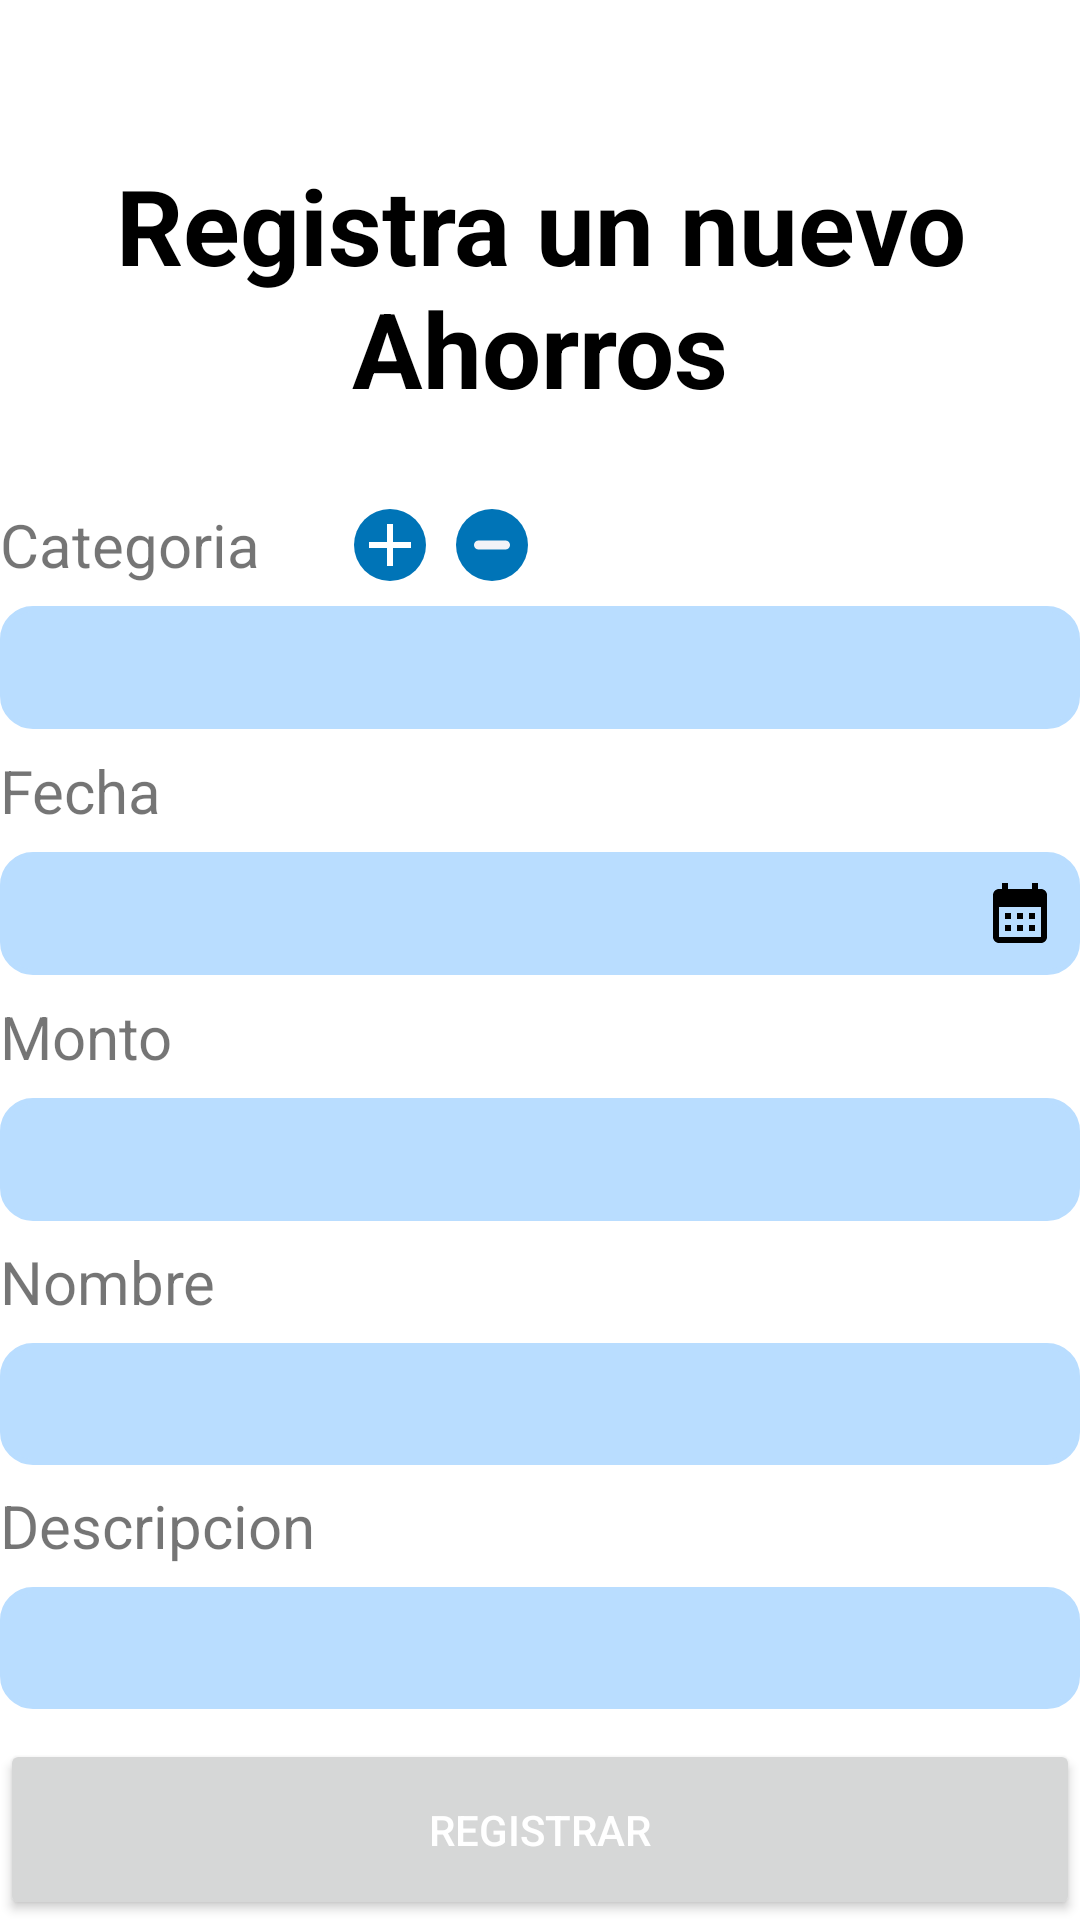

Named icons in this screenshot (1080px x 1920px) and their bounding boxes, (x1, y1, x2, y2):
add: (354, 509, 426, 581)
menos pequeno: (456, 509, 528, 581)
